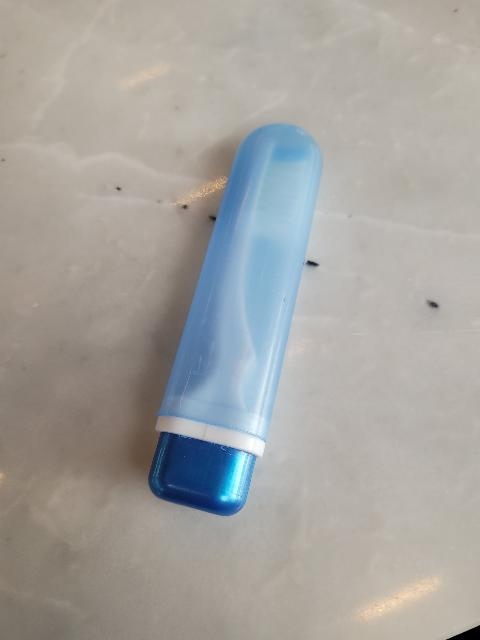Plastik: (141, 113, 318, 516)
